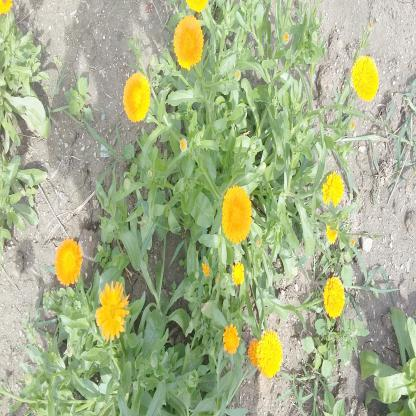marigold: (172, 13, 205, 67), (222, 185, 252, 242), (96, 284, 126, 335), (124, 71, 151, 121), (351, 55, 379, 102), (55, 240, 82, 288), (258, 326, 283, 375), (324, 277, 345, 318), (322, 172, 343, 203), (223, 322, 240, 350), (324, 221, 338, 244), (248, 335, 259, 364), (232, 265, 245, 285)
